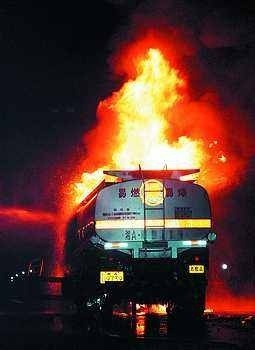fire: (52, 34, 222, 220)
